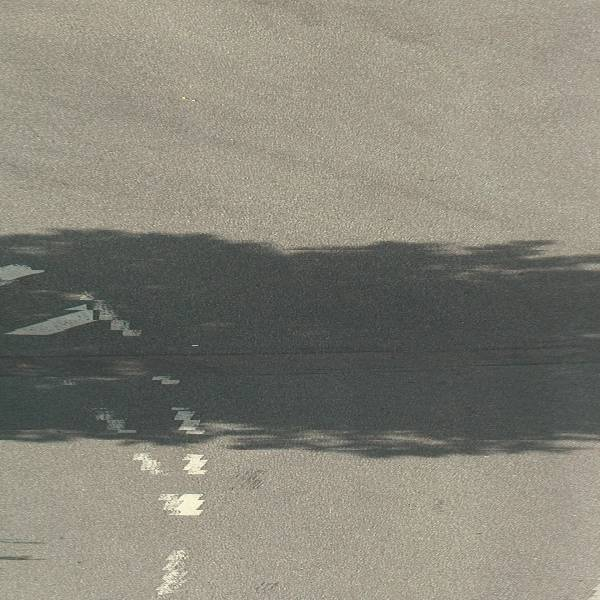road_damage: (209, 337, 600, 384)
